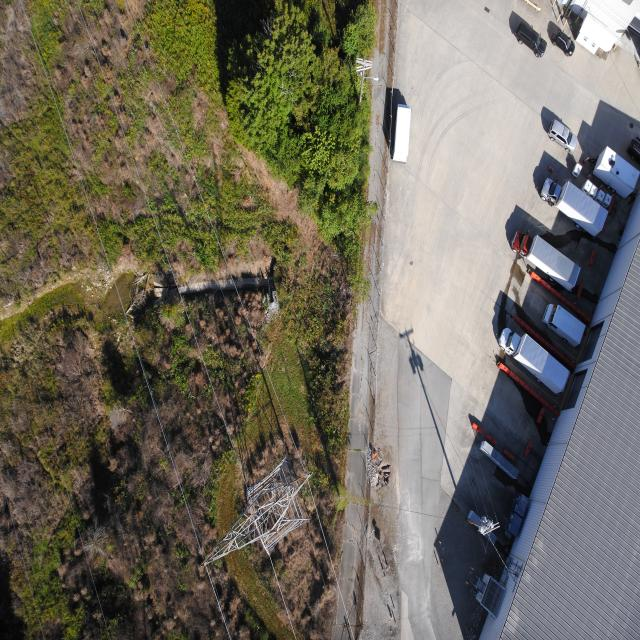Area of Interest: (216, 0, 376, 285)
